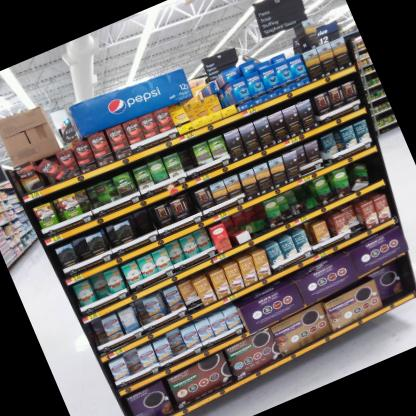empty_space: (174, 139, 198, 170), (364, 152, 386, 183)
